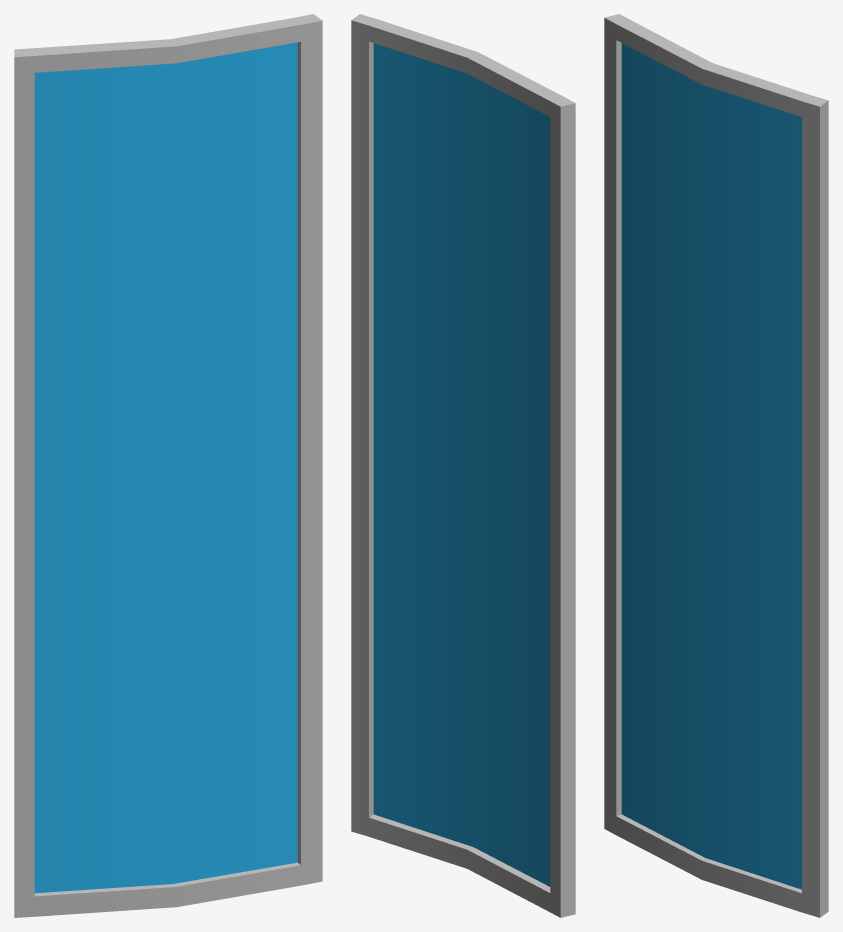
The model's file is sm_1lou_bolimen_zhuan_l.FBX.
3 renders of one model, left to right at view 1: azimuth 30°, elevation 25°; view 2: azimuth 150°, elevation 25°; view 3: azimuth 330°, elevation 25°, orthographic. The views are drawn at different scales.
Visible parts, largest first — view 1: sm_1lou_bolimen_zhuan_l; view 2: sm_1lou_bolimen_zhuan_l; view 3: sm_1lou_bolimen_zhuan_l.
Boxes of the visible parts, bbox=[...] form: sm_1lou_bolimen_zhuan_l: bbox=[14, 14, 322, 917]; sm_1lou_bolimen_zhuan_l: bbox=[351, 14, 575, 917]; sm_1lou_bolimen_zhuan_l: bbox=[604, 14, 828, 917].
Bounding box in the file's own units: 129 × 396 × 39.66.
